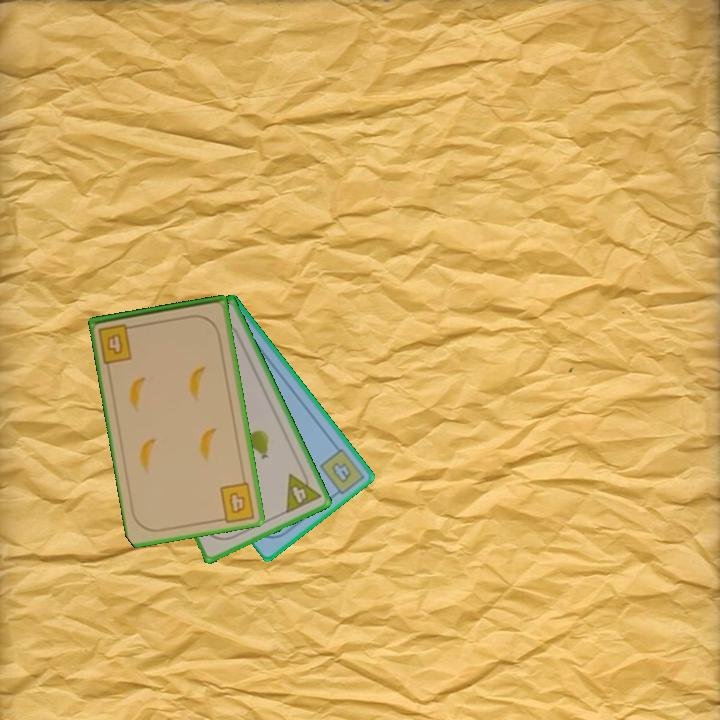4b: (316, 445, 365, 500), (95, 320, 140, 366), (215, 478, 257, 525)
4p: (282, 465, 324, 516)
